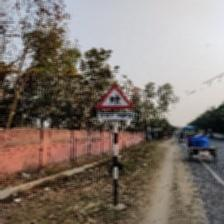College-in-front: (91, 53, 134, 127)
